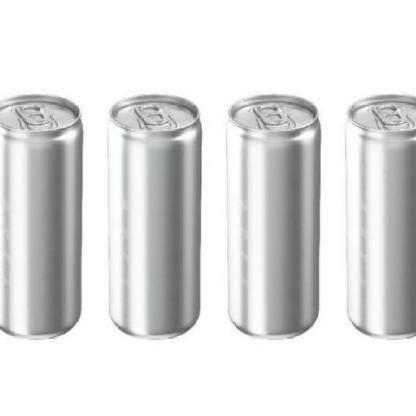Can: (98, 92, 206, 338), (223, 93, 324, 341), (0, 93, 82, 341), (346, 90, 412, 344)
